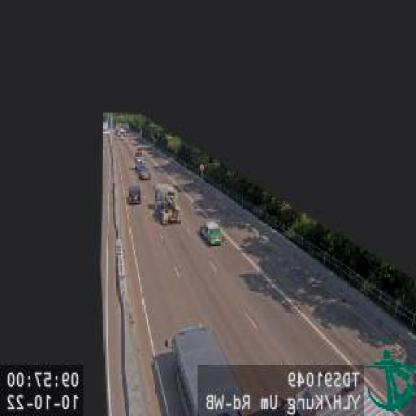Car: (171, 328, 238, 414), (200, 223, 222, 245), (128, 184, 141, 204)
Truck: (157, 188, 181, 222), (134, 151, 150, 180)
